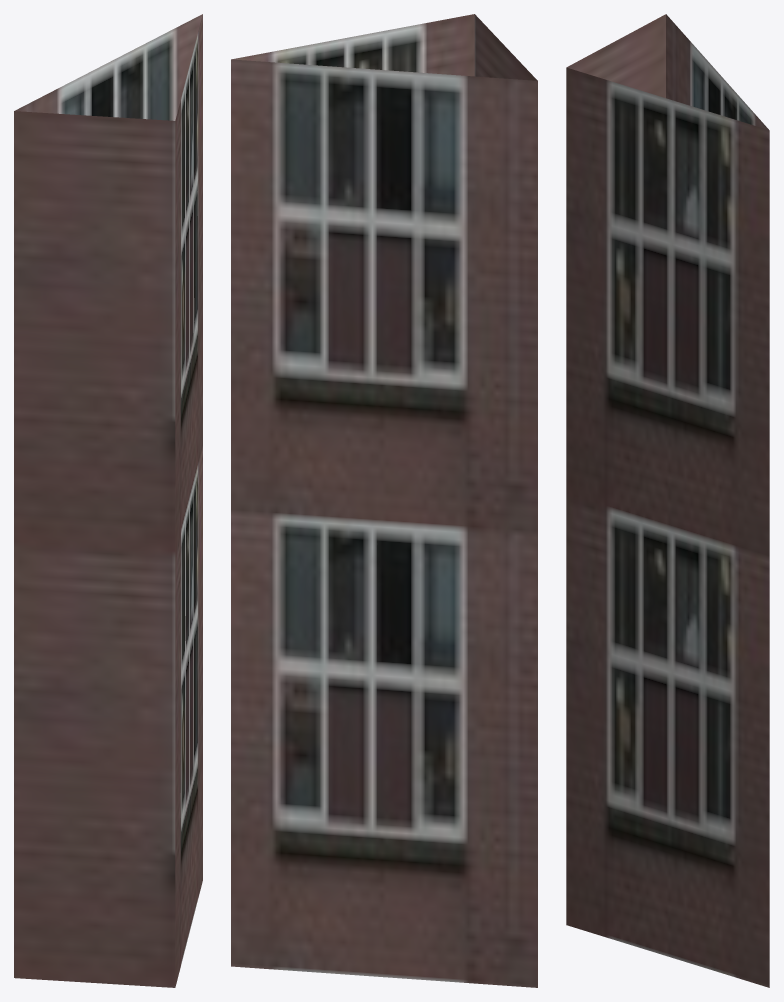
Rendered from ResTex__3700.fbx.
The picture shows the model from 3 angles, left to right: view 1: azimuth 30°, elevation 25°; view 2: azimuth 150°, elevation 25°; view 3: azimuth 270°, elevation 25°; orthographic projection. The views are drawn at different scales.
Visible parts, largest first — view 1: CityEngineMaterial_12_m; view 2: CityEngineMaterial_12_m; view 3: CityEngineMaterial_12_m.
Boxes of the visible parts, left/top/right/bottom form: CityEngineMaterial_12_m: left=14, top=14, right=202, bottom=987; CityEngineMaterial_12_m: left=231, top=14, right=537, bottom=987; CityEngineMaterial_12_m: left=566, top=14, right=769, bottom=987.
Bounding box in the file's own units: 1.75 × 6 × 1.29.
Materials: 1 (1 with a texture image).
